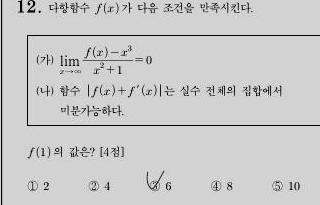choice: (144, 174, 162, 192)
not-choice: (208, 179, 222, 193), (270, 179, 284, 193), (25, 179, 39, 192), (87, 180, 100, 192)
